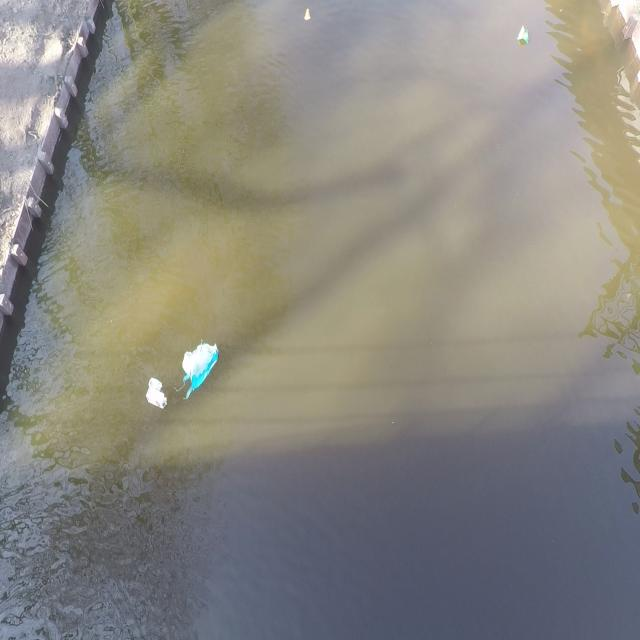Autre plastique: (146, 388, 168, 410)
Non plastique: (148, 375, 166, 390), (303, 7, 312, 21)
Sac plastique: (179, 339, 224, 402)
